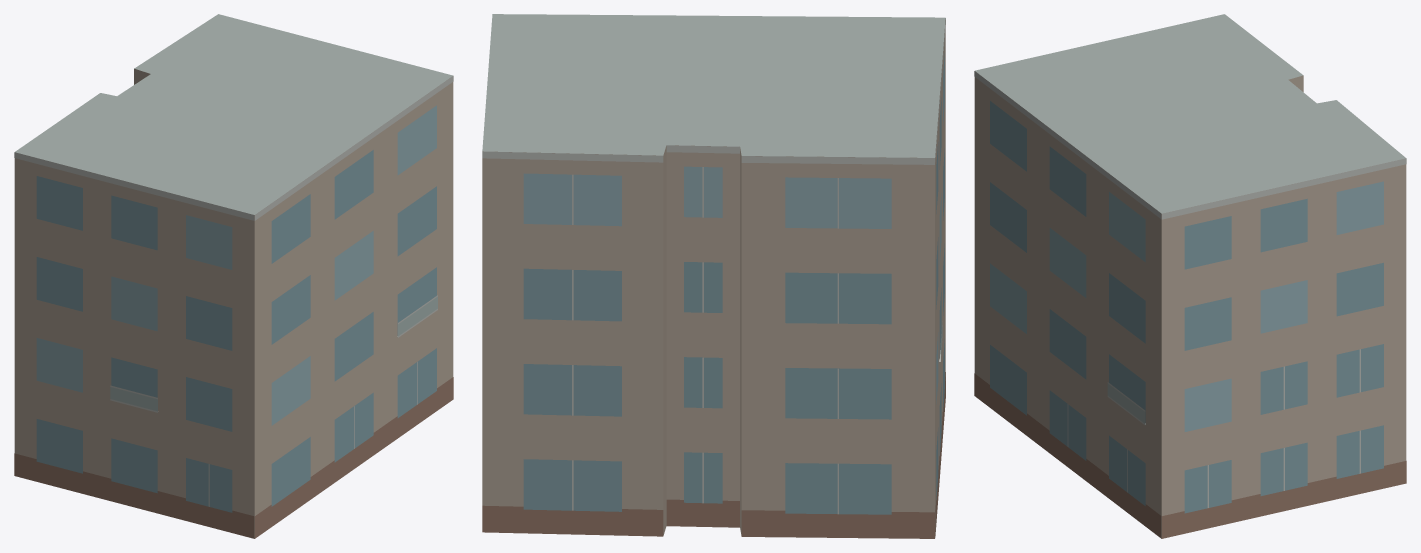
File: survey-upis-33019409.glb
3 views of the same model, side by side, from view 1: azimuth 30°, elevation 25°; view 2: azimuth 150°, elevation 25°; view 3: azimuth 270°, elevation 25° (orthographic). The views are drawn at different scales.
Visible parts, largest first — view 1: survey-upis-33019409.tmp; view 2: survey-upis-33019409.tmp; view 3: survey-upis-33019409.tmp.
Boxes of the visible parts, <box> form: survey-upis-33019409.tmp: <box>14,14,453,538</box>; survey-upis-33019409.tmp: <box>482,14,945,538</box>; survey-upis-33019409.tmp: <box>974,14,1406,538</box>.
Bounding box in the file's own units: 17.6 × 13.35 × 16.08.
